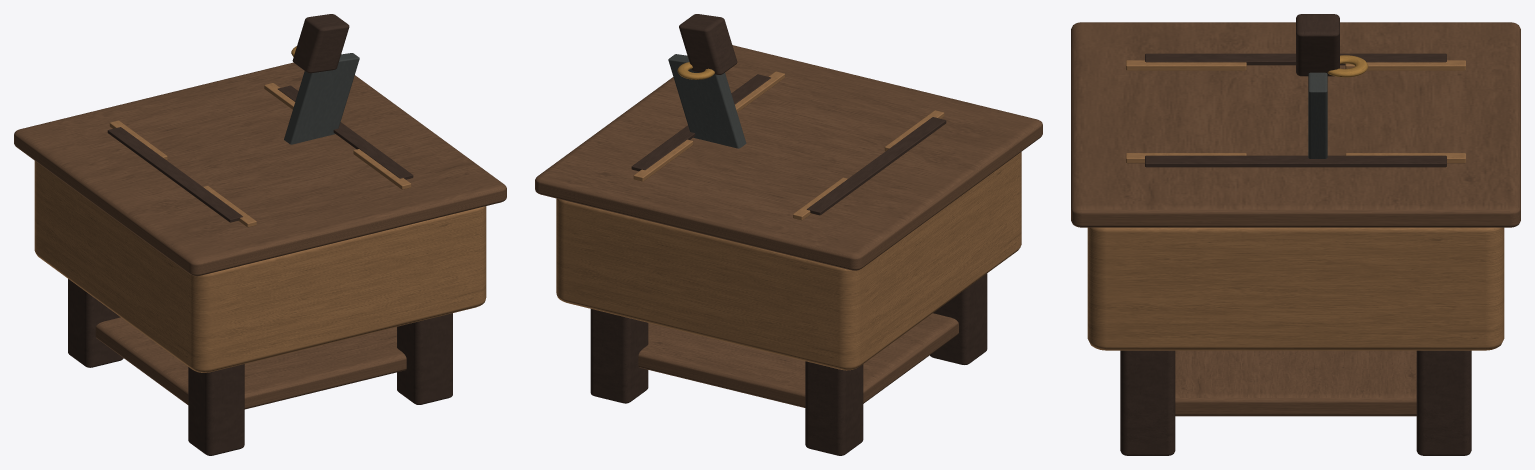
Rendered from butcher_block.glb.
3 views of the same model, side by side, from view 1: azimuth 30°, elevation 25°; view 2: azimuth 150°, elevation 25°; view 3: azimuth 270°, elevation 25° (orthographic). The views are drawn at different scales.
Parts seen in each view (by area): view 1: butcher_block; view 2: butcher_block; view 3: butcher_block.
Part boxes in pixels (<box>): butcher_block: <box>14,14,506,455</box>; butcher_block: <box>535,14,1042,455</box>; butcher_block: <box>1071,14,1520,455</box>.
Size of the model in its own units: 0.9 by 0.9 by 0.9.
1 material, 1 textured.
